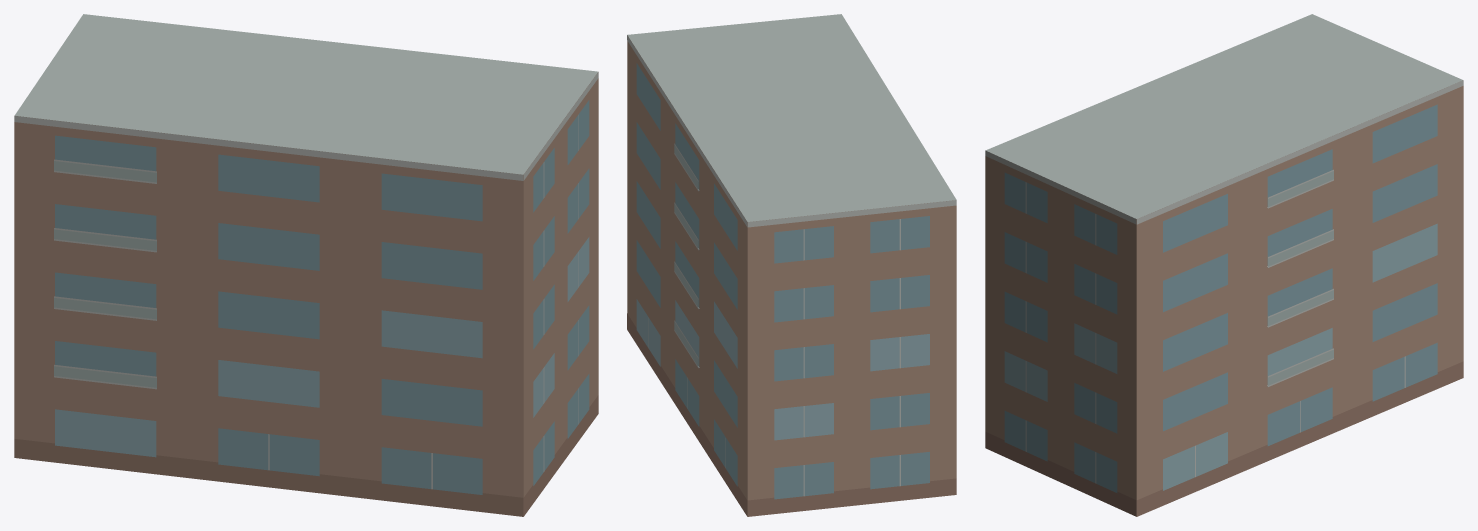
File: survey-upis-32691509.glb
3 renders of one model, left to right at view 1: azimuth 30°, elevation 25°; view 2: azimuth 150°, elevation 25°; view 3: azimuth 270°, elevation 25°, orthographic. The views are drawn at different scales.
Visible parts, largest first — view 1: survey-upis-32691509.tmp; view 2: survey-upis-32691509.tmp; view 3: survey-upis-32691509.tmp.
Boxes of the visible parts, x1,y1,x2,y2 form: survey-upis-32691509.tmp: [14, 14, 598, 516]; survey-upis-32691509.tmp: [627, 14, 956, 516]; survey-upis-32691509.tmp: [985, 14, 1463, 516].
Bounding box in the file's own units: 19.44 × 13.15 × 19.14.
